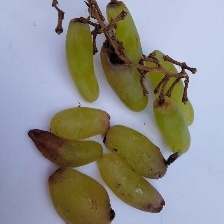grapes: (21, 0, 204, 201)
